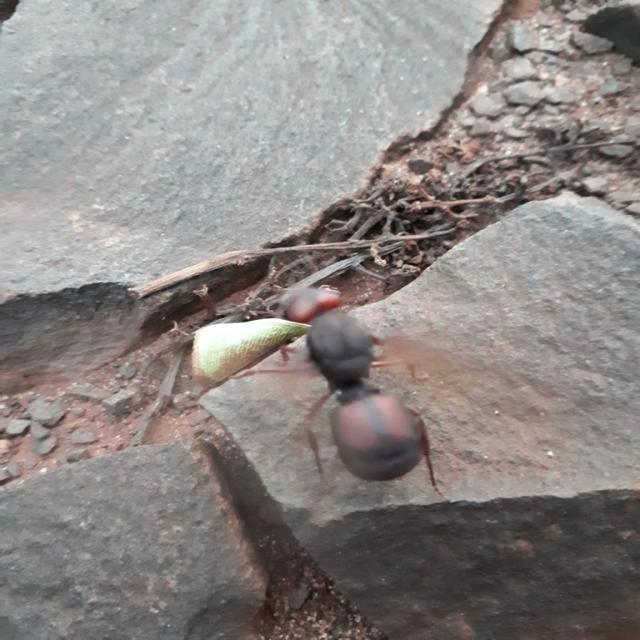Alive-Female-Alate: (0, 240, 640, 502)
